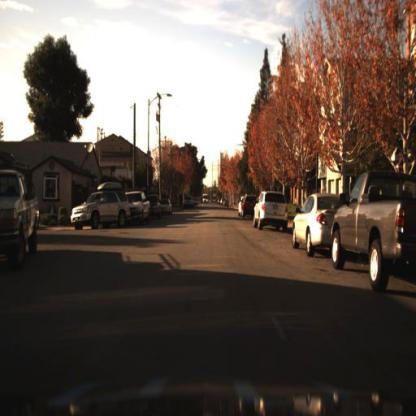car: (331, 172, 416, 294), (1, 162, 41, 268), (290, 192, 348, 260), (71, 179, 132, 233), (292, 190, 340, 256), (71, 185, 132, 231), (253, 190, 291, 234), (251, 190, 291, 230), (129, 190, 152, 227), (131, 192, 150, 220), (239, 194, 259, 220), (150, 193, 163, 222), (162, 195, 176, 218), (181, 192, 197, 210)
